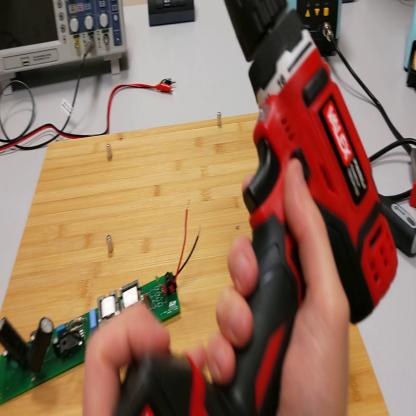electric screwdriver: (207, 2, 400, 414)
electric screwdriver battery: (110, 341, 194, 416)
hand: (210, 160, 353, 416), (87, 298, 223, 416)
high voltage board: (2, 196, 206, 408)
oscilloscope: (1, 2, 132, 97)
pliers: (409, 145, 416, 216)
screwdriver-: (378, 190, 416, 261)
welder base: (404, 6, 416, 88)
welder station: (292, 2, 344, 62)
working area: (2, 108, 390, 416)
